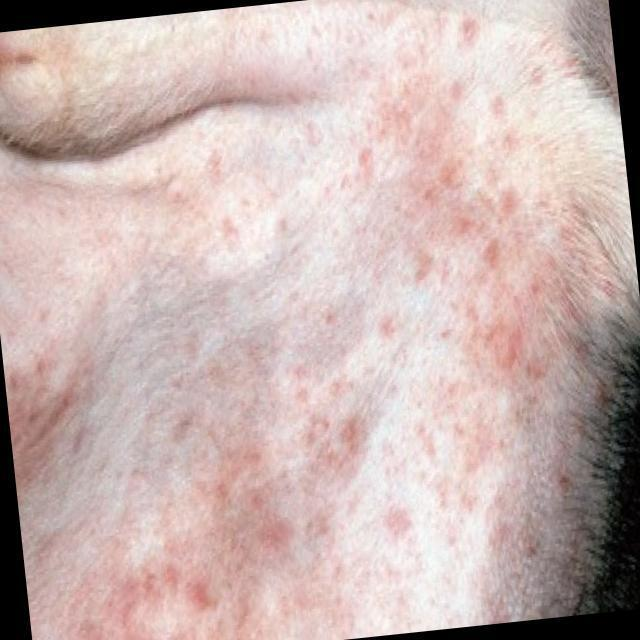allergic dermatitis: (368, 14, 524, 240), (80, 436, 213, 640), (482, 204, 604, 379), (209, 379, 362, 470), (200, 449, 298, 573)
